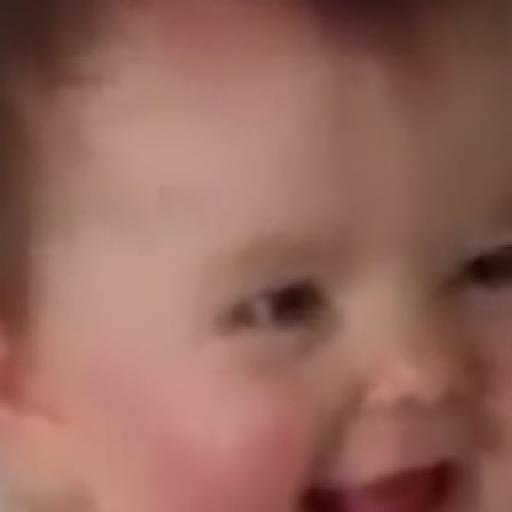Autism: (79, 22, 512, 512)
